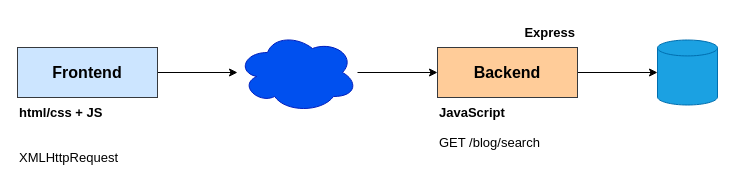
Some shapes in this 735 by 189 pixel diagram are drawn without their labels. The shapes that lost their labels are listed below. From the top down, each one's centre as x and y in pixels, then its label:
(297,72): Network
(687,72): DB
